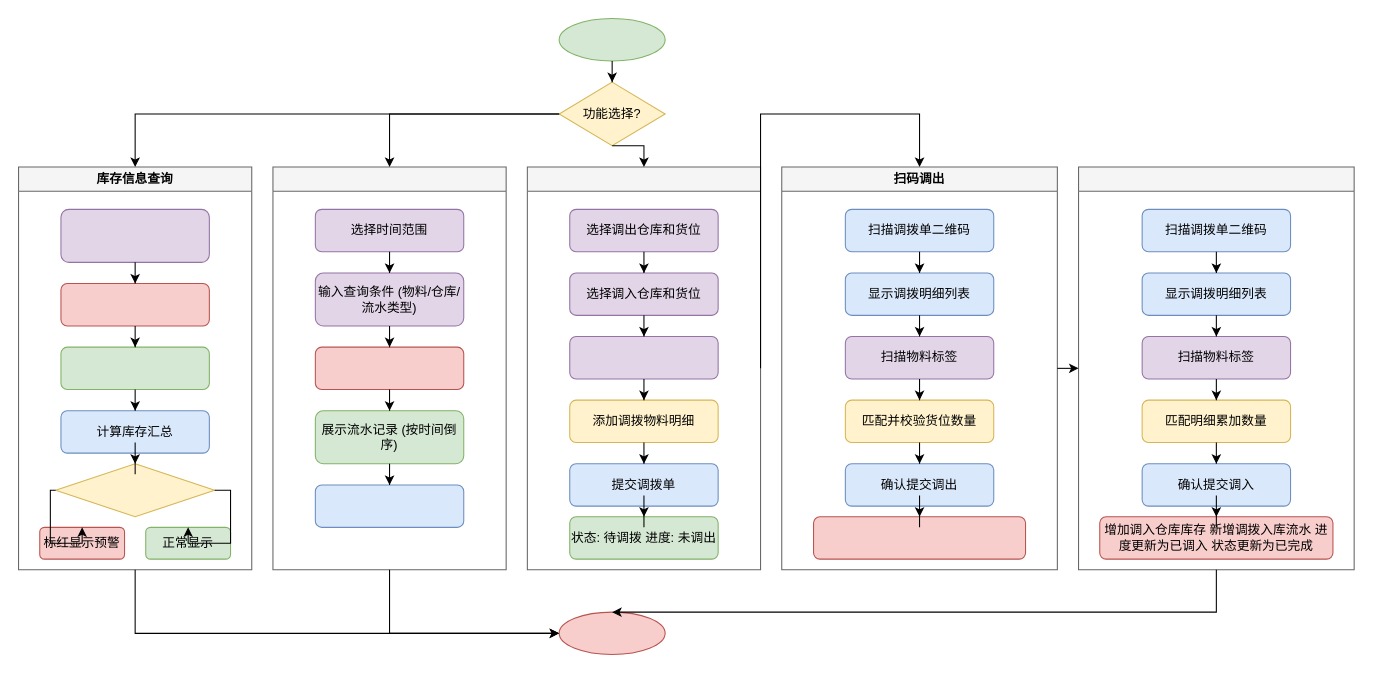
This 1373x673 diagram has some shape labels left out. Here are the shapes that lost their labels. From the top down, the box of each, then its label:
(558, 17, 665, 61): 开始
(60, 208, 209, 262): 输入查询条件 (物料/仓库/货位/批次)
(60, 282, 209, 326): 查询库存信息表
(60, 346, 209, 390): 展示库存记录
(272, 166, 506, 570): 库存流水查询
(314, 346, 464, 390): 查询库存流水表
(569, 335, 718, 379): 填写调拨原因
(526, 166, 761, 570): 创建调拨单
(1077, 166, 1354, 570): 扫码调入
(55, 463, 215, 517): 库存低于安全库存?
(314, 484, 464, 527): 支持导出Excel
(812, 516, 1026, 559): 扣减调出仓库库存 新增调拨出库流水 进度更新为已调出
(558, 611, 665, 655): 操作完成
